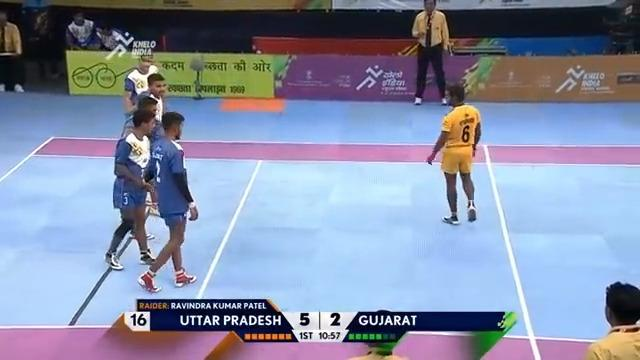Player: (157, 116, 209, 255), (114, 119, 159, 266), (129, 53, 187, 130), (148, 77, 177, 117)
Raider: (424, 81, 483, 226)
referee: (410, 0, 453, 105), (582, 280, 639, 359)
